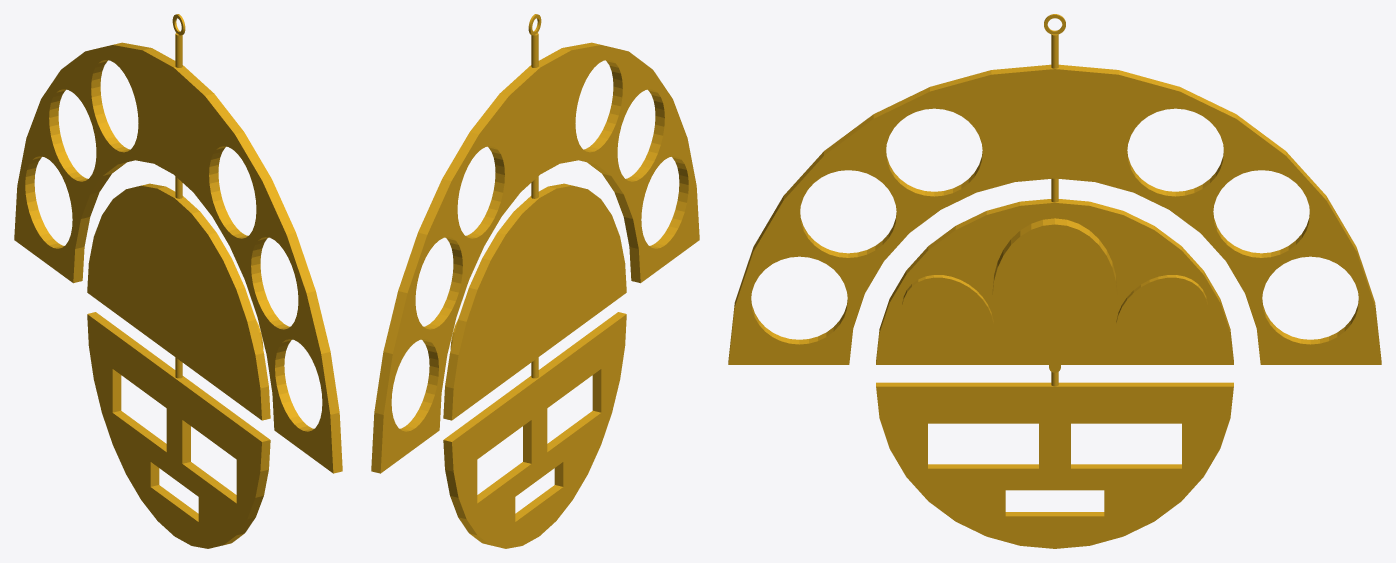
The model's file is arete inti.glb.
The picture shows the model from 3 angles, left to right: view 1: azimuth 30°, elevation 25°; view 2: azimuth 150°, elevation 25°; view 3: azimuth 270°, elevation 25°; orthographic projection. The views are drawn at different scales.
Visible parts, largest first — view 1: Círculo.006; view 2: Círculo.006; view 3: Círculo.006.
Boxes of the visible parts, <box> form: Círculo.006: <box>14,14,342,548</box>; Círculo.006: <box>371,14,699,548</box>; Círculo.006: <box>728,14,1381,548</box>.
Bounding box in the file's own units: 0.0662 × 1.53 × 1.7.
